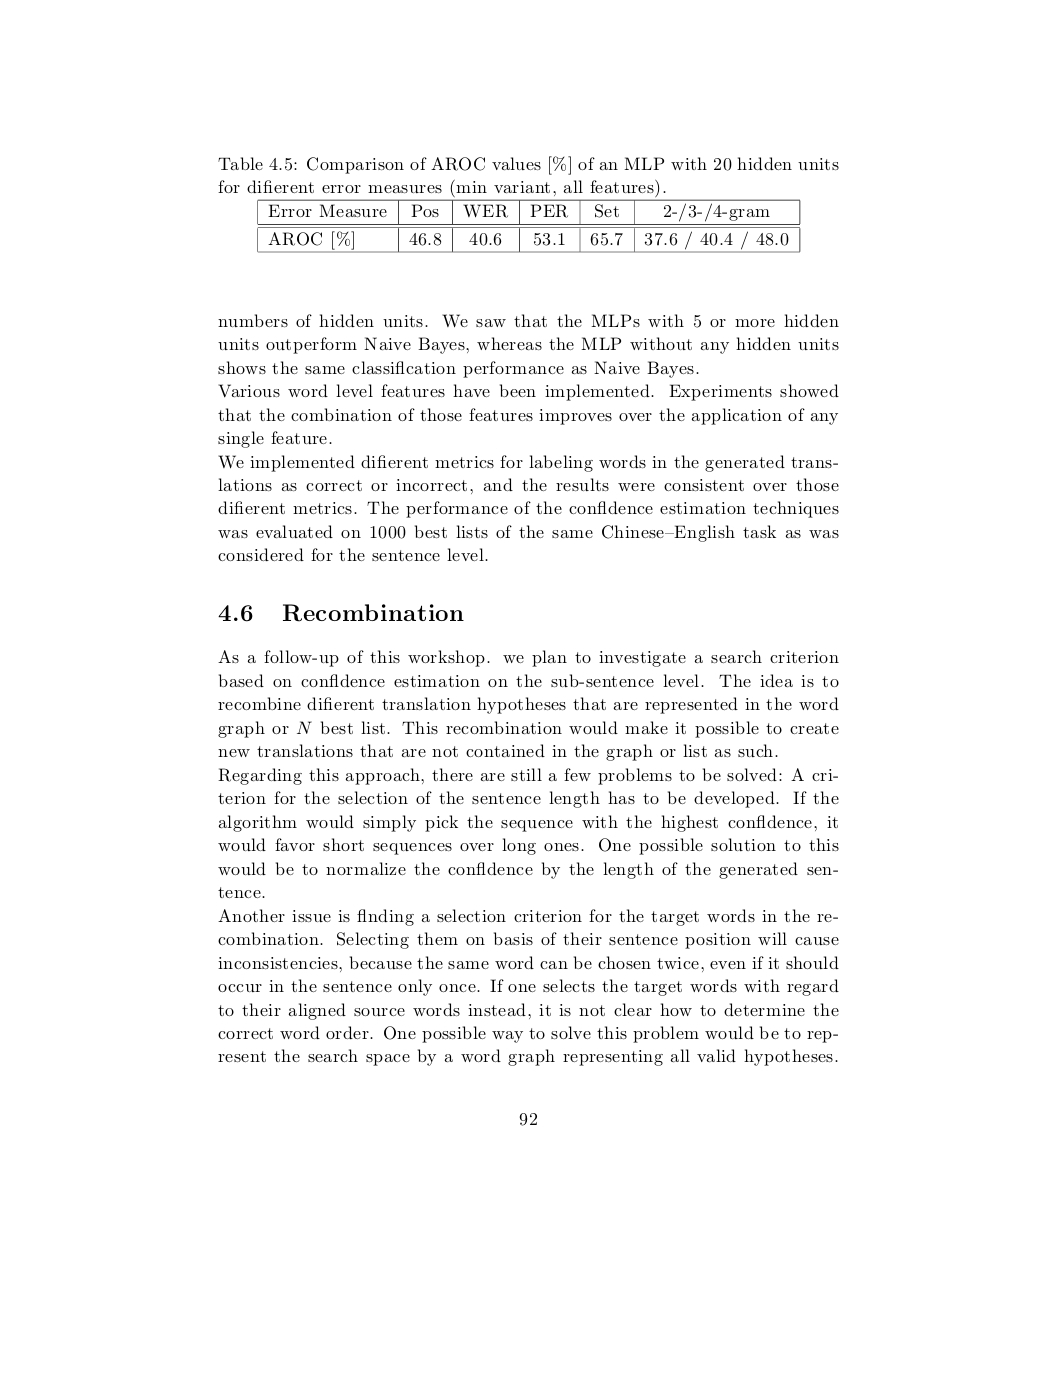Table: (257, 199, 800, 252)
